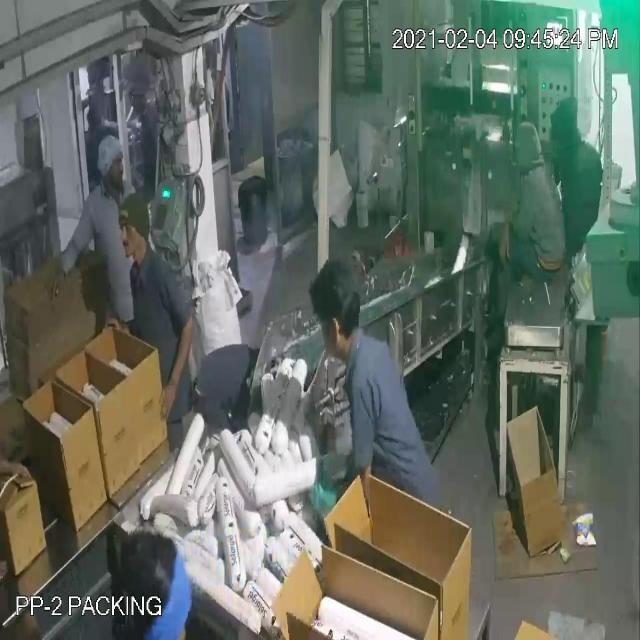No_Gloves: (21, 56, 335, 500)
